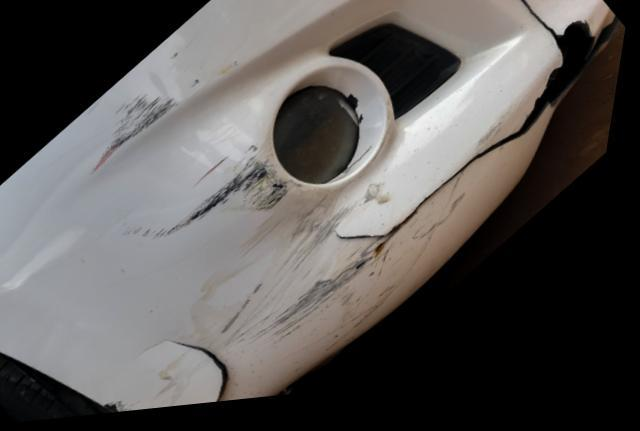crack: (345, 0, 599, 251), (147, 342, 242, 408)
scratch: (127, 149, 442, 366), (98, 93, 187, 178)
